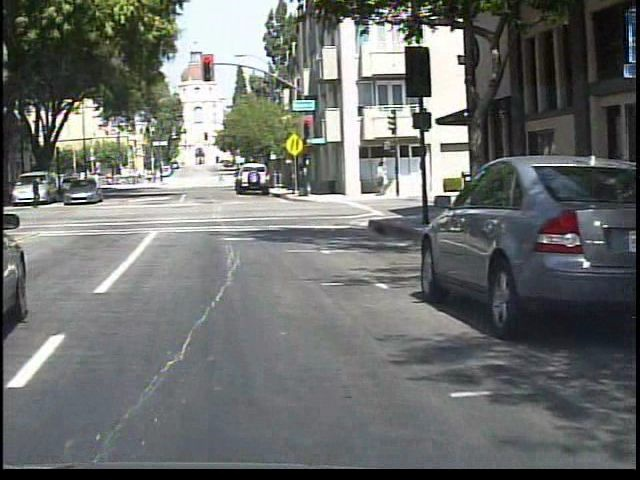person: (28, 172, 43, 212), (213, 171, 228, 189), (4, 175, 5, 213)
